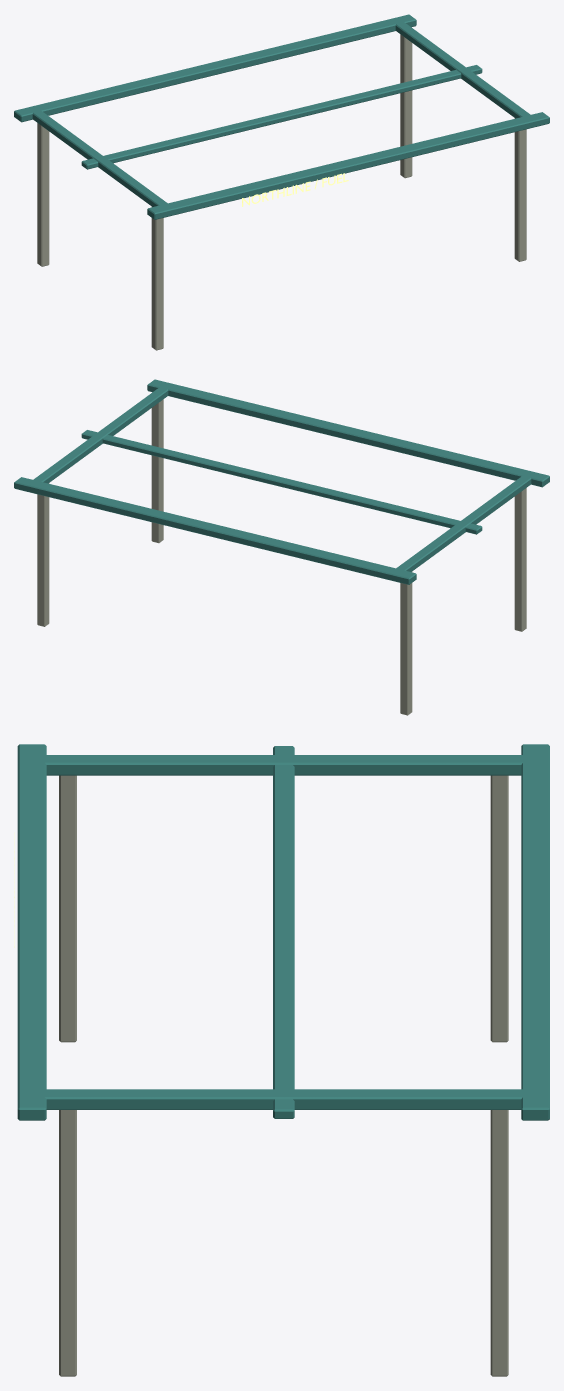
Rendered from station_canopy.glb.
3 renders of one model, top to bottom at view 1: azimuth 30°, elevation 25°; view 2: azimuth 150°, elevation 25°; view 3: azimuth 270°, elevation 25°, orthographic. The views are drawn at different scales.
Parts seen in each view (by area): view 1: station_canopy.001; view 2: station_canopy.001; view 3: station_canopy.001.
Boxes of the visible parts, x1,y1,x2,y2 form: station_canopy.001: [14, 14, 549, 350]; station_canopy.001: [14, 379, 549, 715]; station_canopy.001: [14, 744, 549, 1376].
Bounding box in the file's own units: 12 × 4.3 × 7.45.
